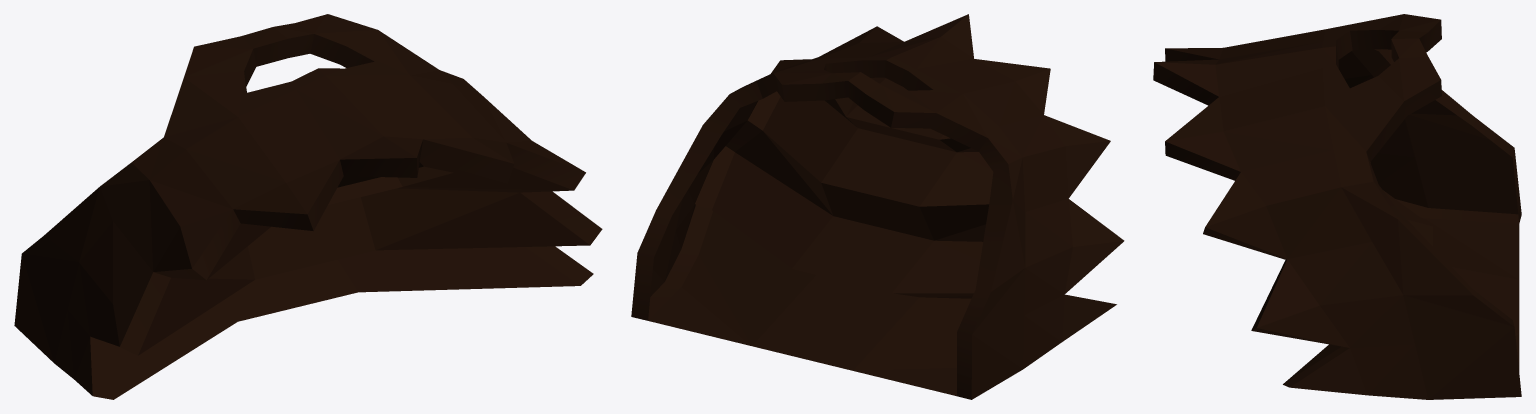
The model's file is Beard 05.FBX.
3 views of the same model, side by side, from view 1: azimuth 30°, elevation 25°; view 2: azimuth 150°, elevation 25°; view 3: azimuth 270°, elevation 25° (orthographic). The views are drawn at different scales.
Visible parts, largest first — view 1: Beard 05; view 2: Beard 05; view 3: Beard 05.
Part boxes in pixels (x1=…): Beard 05: x1=14, y1=14, x2=602, y2=399; Beard 05: x1=631, y1=14, x2=1124, y2=399; Beard 05: x1=1153, y1=14, x2=1521, y2=399.
Size of the model in its own units: 35 by 24.2 by 19.44.
